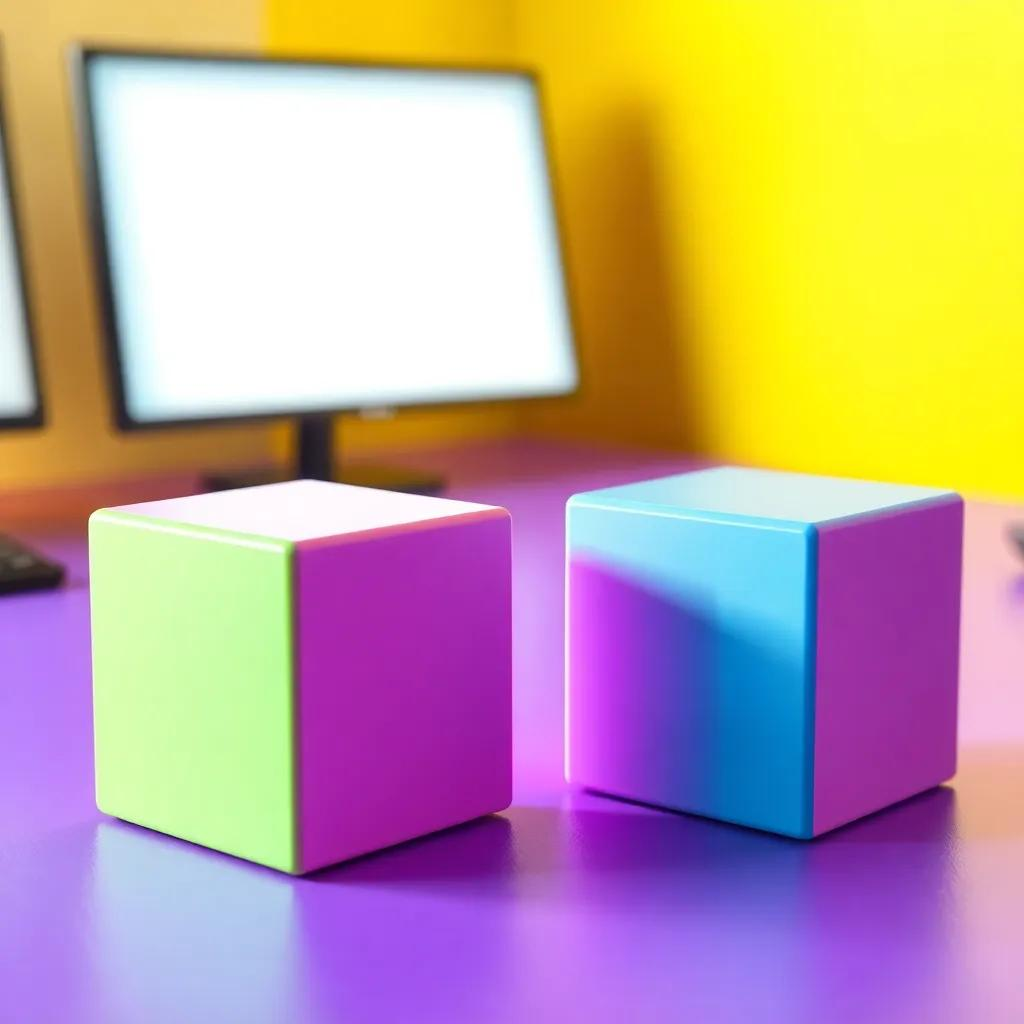cube: (87, 476, 514, 875), (563, 462, 964, 840)
